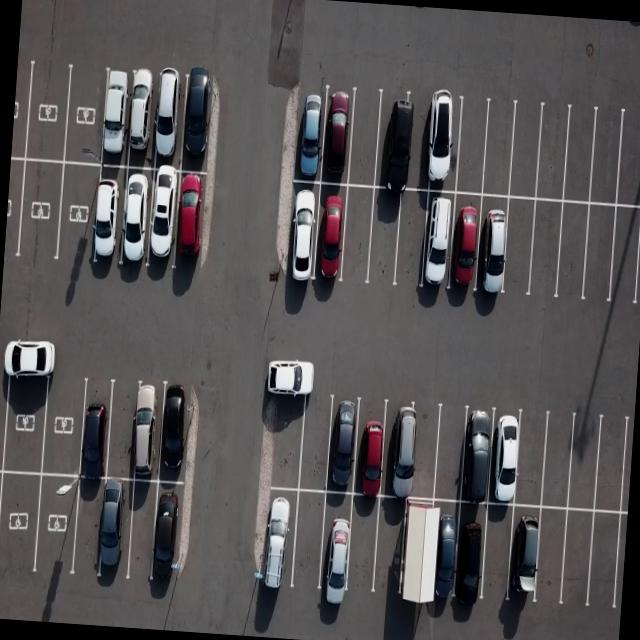car: (144, 479, 196, 587), (253, 484, 300, 597), (31, 474, 81, 578), (418, 500, 462, 612), (447, 500, 491, 610), (93, 478, 137, 584), (172, 172, 216, 276), (506, 499, 549, 605), (316, 486, 357, 596), (86, 165, 126, 274), (373, 88, 416, 189), (156, 386, 199, 486), (443, 192, 483, 298), (418, 190, 458, 294), (116, 166, 156, 270), (74, 375, 114, 479), (313, 180, 352, 286), (482, 411, 524, 507), (144, 170, 182, 275), (382, 402, 423, 499), (474, 194, 512, 298), (324, 396, 364, 494), (350, 398, 390, 496), (422, 94, 462, 191), (458, 408, 498, 503), (286, 179, 321, 286), (321, 86, 359, 184), (95, 67, 132, 167), (129, 381, 166, 481), (149, 72, 186, 170), (181, 75, 218, 173), (125, 70, 158, 168), (295, 87, 328, 184)
free: (0, 355, 50, 477), (40, 366, 90, 477), (54, 160, 101, 270), (14, 157, 61, 266), (22, 58, 68, 164), (289, 490, 332, 600), (474, 502, 516, 610), (393, 496, 435, 604), (63, 64, 107, 166), (341, 494, 382, 602), (585, 509, 627, 614), (529, 506, 571, 610), (554, 508, 596, 610), (102, 378, 144, 480), (0, 472, 40, 577), (578, 202, 618, 306), (68, 474, 108, 577), (496, 198, 536, 300), (298, 394, 338, 494), (512, 411, 553, 508), (428, 405, 469, 502), (562, 413, 602, 512), (538, 410, 578, 508), (370, 496, 409, 596), (593, 413, 632, 512), (529, 198, 567, 299), (347, 88, 386, 186), (338, 186, 376, 286), (393, 188, 431, 288), (364, 184, 401, 284), (554, 200, 590, 302), (560, 106, 598, 202), (536, 104, 574, 200), (584, 110, 622, 206), (406, 406, 444, 502), (481, 101, 518, 196), (505, 104, 541, 200), (452, 102, 488, 197), (608, 203, 640, 309), (616, 111, 640, 209)
